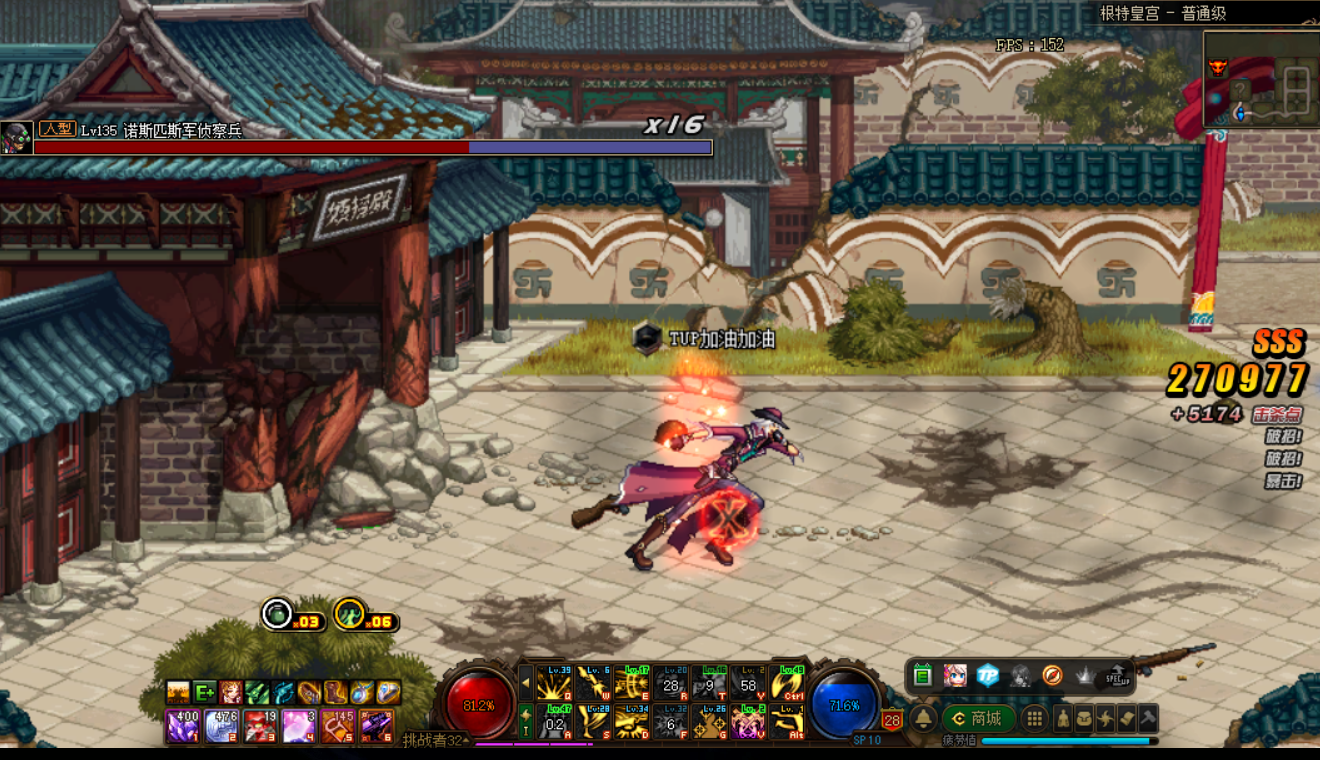warrior: (579, 395, 794, 566)
